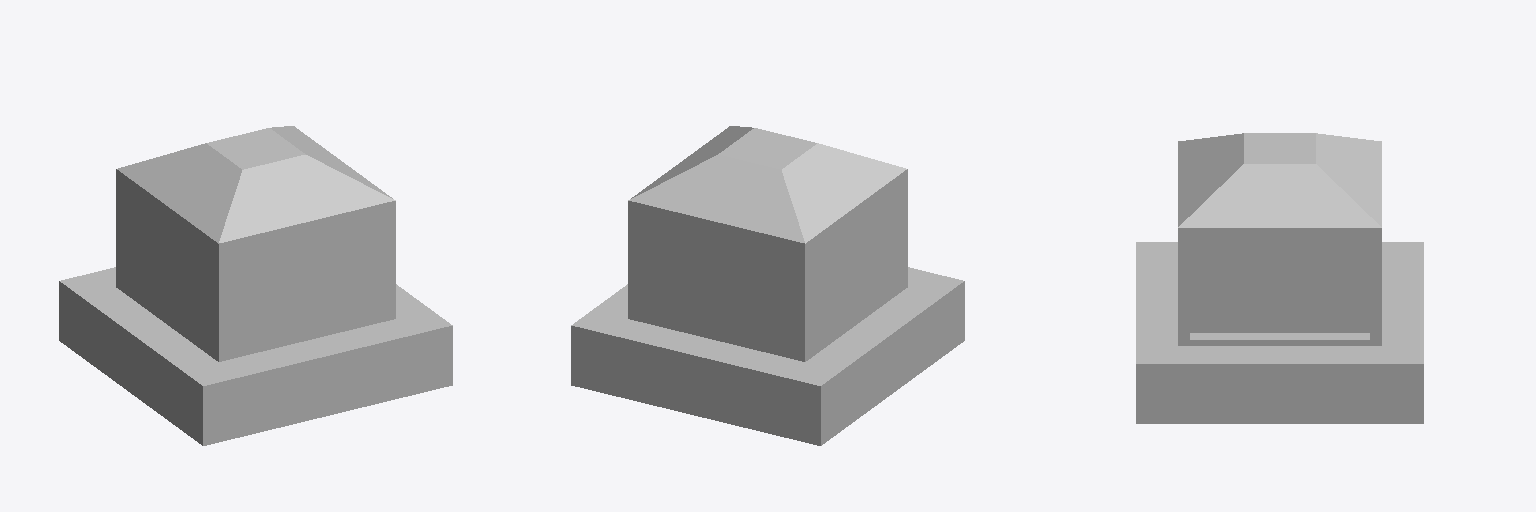
The model's file is models.obj.
The picture shows the model from 3 angles: view 1: azimuth 30°, elevation 25°; view 2: azimuth 150°, elevation 25°; view 3: azimuth 270°, elevation 25°; orthographic projection.
Visible parts, largest first — view 1: Cube_Cube.001; view 2: Cube_Cube.001; view 3: Cube_Cube.001.
Boxes of the visible parts, x1=… form: Cube_Cube.001: x1=59, y1=126, x2=452, y2=445; Cube_Cube.001: x1=571, y1=126, x2=964, y2=445; Cube_Cube.001: x1=1136, y1=133, x2=1423, y2=423.
Size of the model in its own units: 3.47 by 2.85 by 3.47.